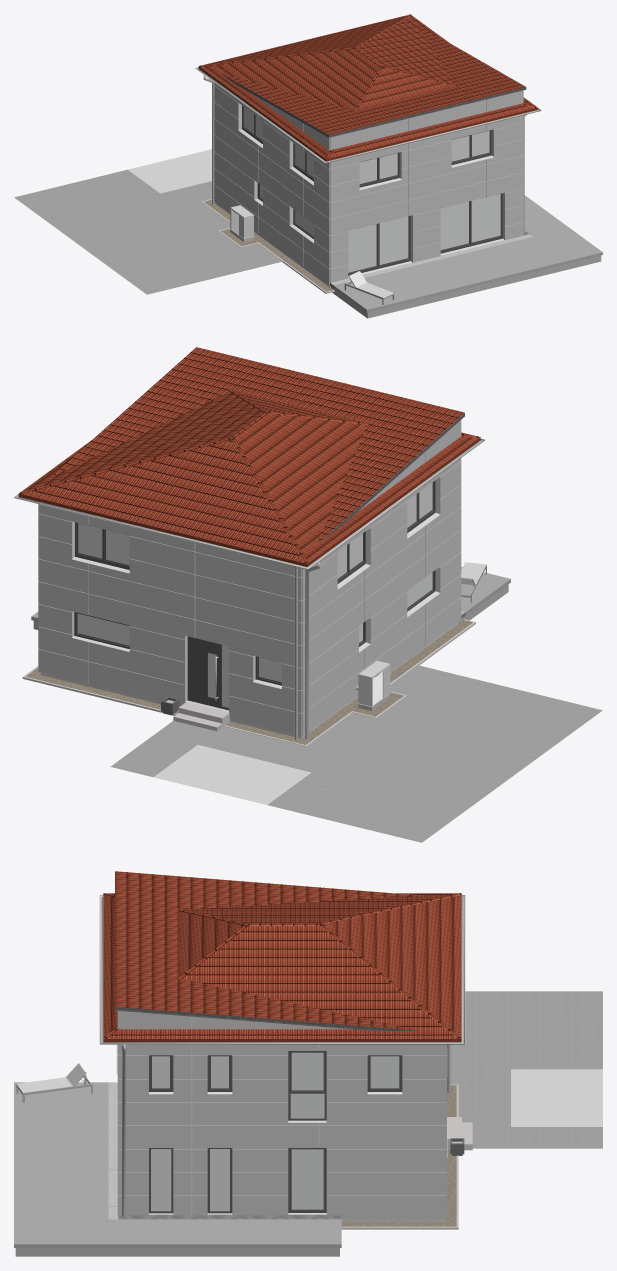
File: building_002.dae
The picture shows the model from 3 angles, top to bottom: view 1: azimuth 30°, elevation 25°; view 2: azimuth 150°, elevation 25°; view 3: azimuth 270°, elevation 25°; orthographic projection. The views are drawn at different scales.
Visible parts, largest first — view 1: roof_001, Unterregi1, terrasa, plane_wall_007, roof_000, plane_wall_002, plane_wall_003, plane_wall_006, window_000, window_001, plane_wall_009, Unterregi2 (+12 smaller); view 2: roof_001, Unterregi1, roof_000, plane_wall_001, plane_wall_005, plane_wall_002, plane_wall_006, Unterregi2, gravel_ground, LUXHAUS-Ei, Gutter_Dac, window_010 (+11 smaller); view 3: roof_001, plane_wall_000, terrasa, plane_wall_004, roof_000, Unterregi1, Unterregi2, Gutter_Dac, Geschossd5, window_015, window_011, grid (+9 smaller).
Boxes of the visible parts, x1=… form: roof_001: x1=198, y1=14, x2=537, y2=161; Unterregi1: x1=14, y1=149, x2=282, y2=294; terrasa: x1=333, y1=195, x2=602, y2=312; plane_wall_007: x1=330, y1=115, x2=523, y2=219; roof_000: x1=221, y1=25, x2=526, y2=137; plane_wall_002: x1=214, y1=135, x2=329, y2=285; plane_wall_003: x1=330, y1=172, x2=523, y2=282; plane_wall_006: x1=214, y1=83, x2=329, y2=218; window_000: x1=440, y1=193, x2=504, y2=255; window_001: x1=348, y1=215, x2=411, y2=277; plane_wall_009: x1=330, y1=90, x2=523, y2=150; Unterregi2: x1=128, y1=149, x2=211, y2=193; roof_001: x1=18, y1=390, x2=480, y2=566; Unterregi1: x1=110, y1=665, x2=602, y2=842; roof_000: x1=49, y1=347, x2=464, y2=544; plane_wall_001: x1=38, y1=581, x2=301, y2=735; plane_wall_005: x1=38, y1=504, x2=301, y2=645; plane_wall_002: x1=302, y1=530, x2=461, y2=735; plane_wall_006: x1=302, y1=458, x2=461, y2=645; Unterregi2: x1=154, y1=745, x2=311, y2=804; gravel_ground: x1=26, y1=620, x2=472, y2=744; LUXHAUS-Ei: x1=187, y1=636, x2=228, y2=710; Gutter_Dac: x1=14, y1=438, x2=484, y2=739; window_010: x1=72, y1=522, x2=129, y2=573; roof_001: x1=103, y1=893, x2=461, y2=1042; plane_wall_000: x1=118, y1=1125, x2=445, y2=1218; terrasa: x1=14, y1=1082, x2=341, y2=1247; plane_wall_004: x1=118, y1=1044, x2=445, y2=1125; roof_000: x1=115, y1=871, x2=421, y2=1030; Unterregi1: x1=447, y1=991, x2=602, y2=1148; Unterregi2: x1=511, y1=1069, x2=602, y2=1126; Gutter_Dac: x1=99, y1=895, x2=465, y2=1216; Geschossd5: x1=15, y1=1248, x2=339, y2=1256; window_015: x1=288, y1=1050, x2=326, y2=1122; window_011: x1=288, y1=1147, x2=326, y2=1214; grid: x1=108, y1=1082, x2=341, y2=1219.
Size of what is drawn, in the model's own units: 9.76 by 9.31 by 4.31.
79 materials, 6 textured.
